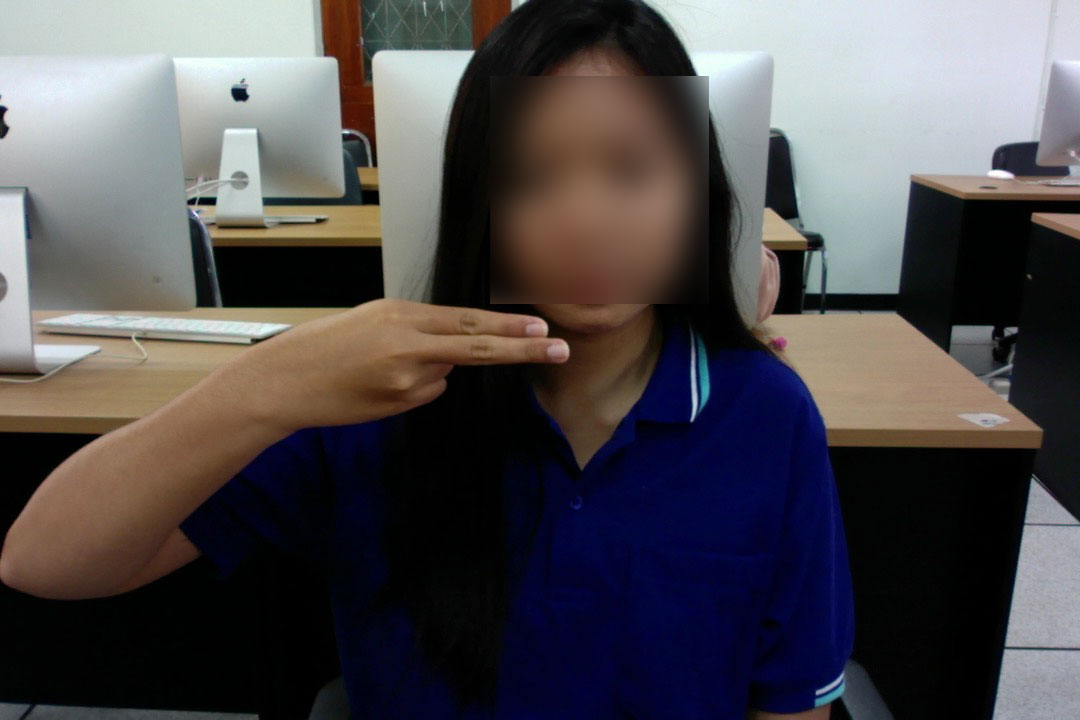hor: (274, 293, 573, 434)
